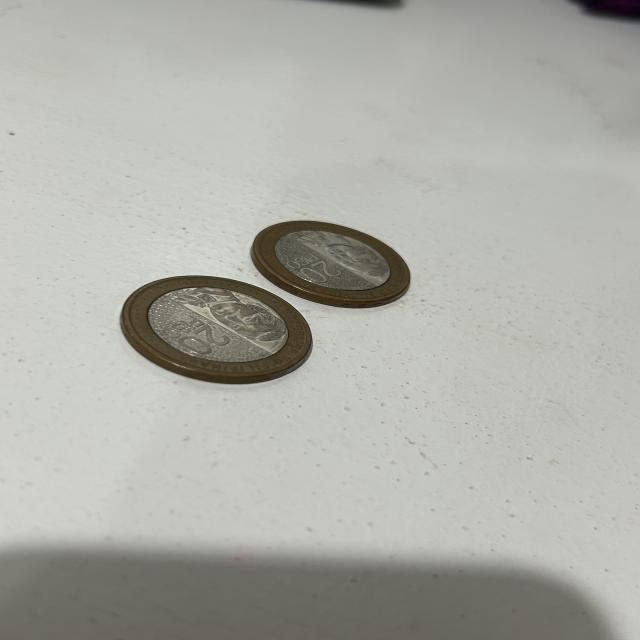20_New_Front: (157, 312, 236, 364), (280, 243, 342, 291)
